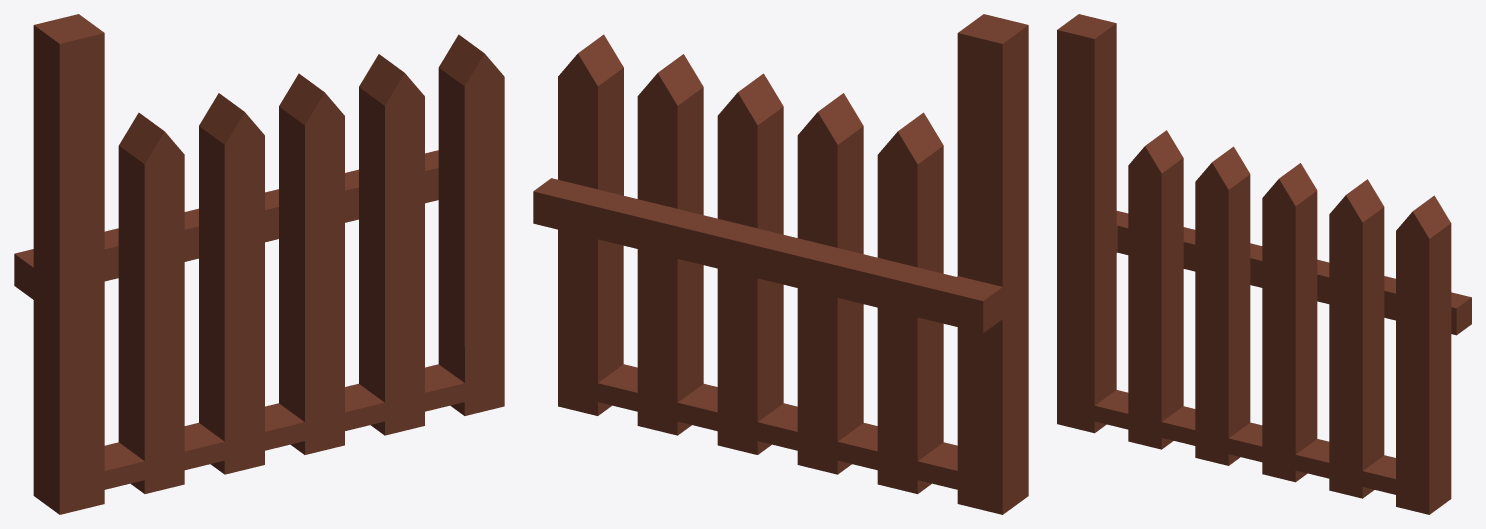
File: Picket Fence start.fbx
3 renders of one model, left to right at view 1: azimuth 30°, elevation 25°; view 2: azimuth 150°, elevation 25°; view 3: azimuth 330°, elevation 25°, orthographic. The views are drawn at different scales.
Parts seen in each view (by area): view 1: Picket Fence start; view 2: Picket Fence start; view 3: Picket Fence start.
Boxes of the visible parts, <box> form: Picket Fence start: <box>14,14,504,514</box>; Picket Fence start: <box>533,14,1028,514</box>; Picket Fence start: <box>1057,14,1471,514</box>.
Bounding box in the file's own units: 100 × 100 × 17.5.
